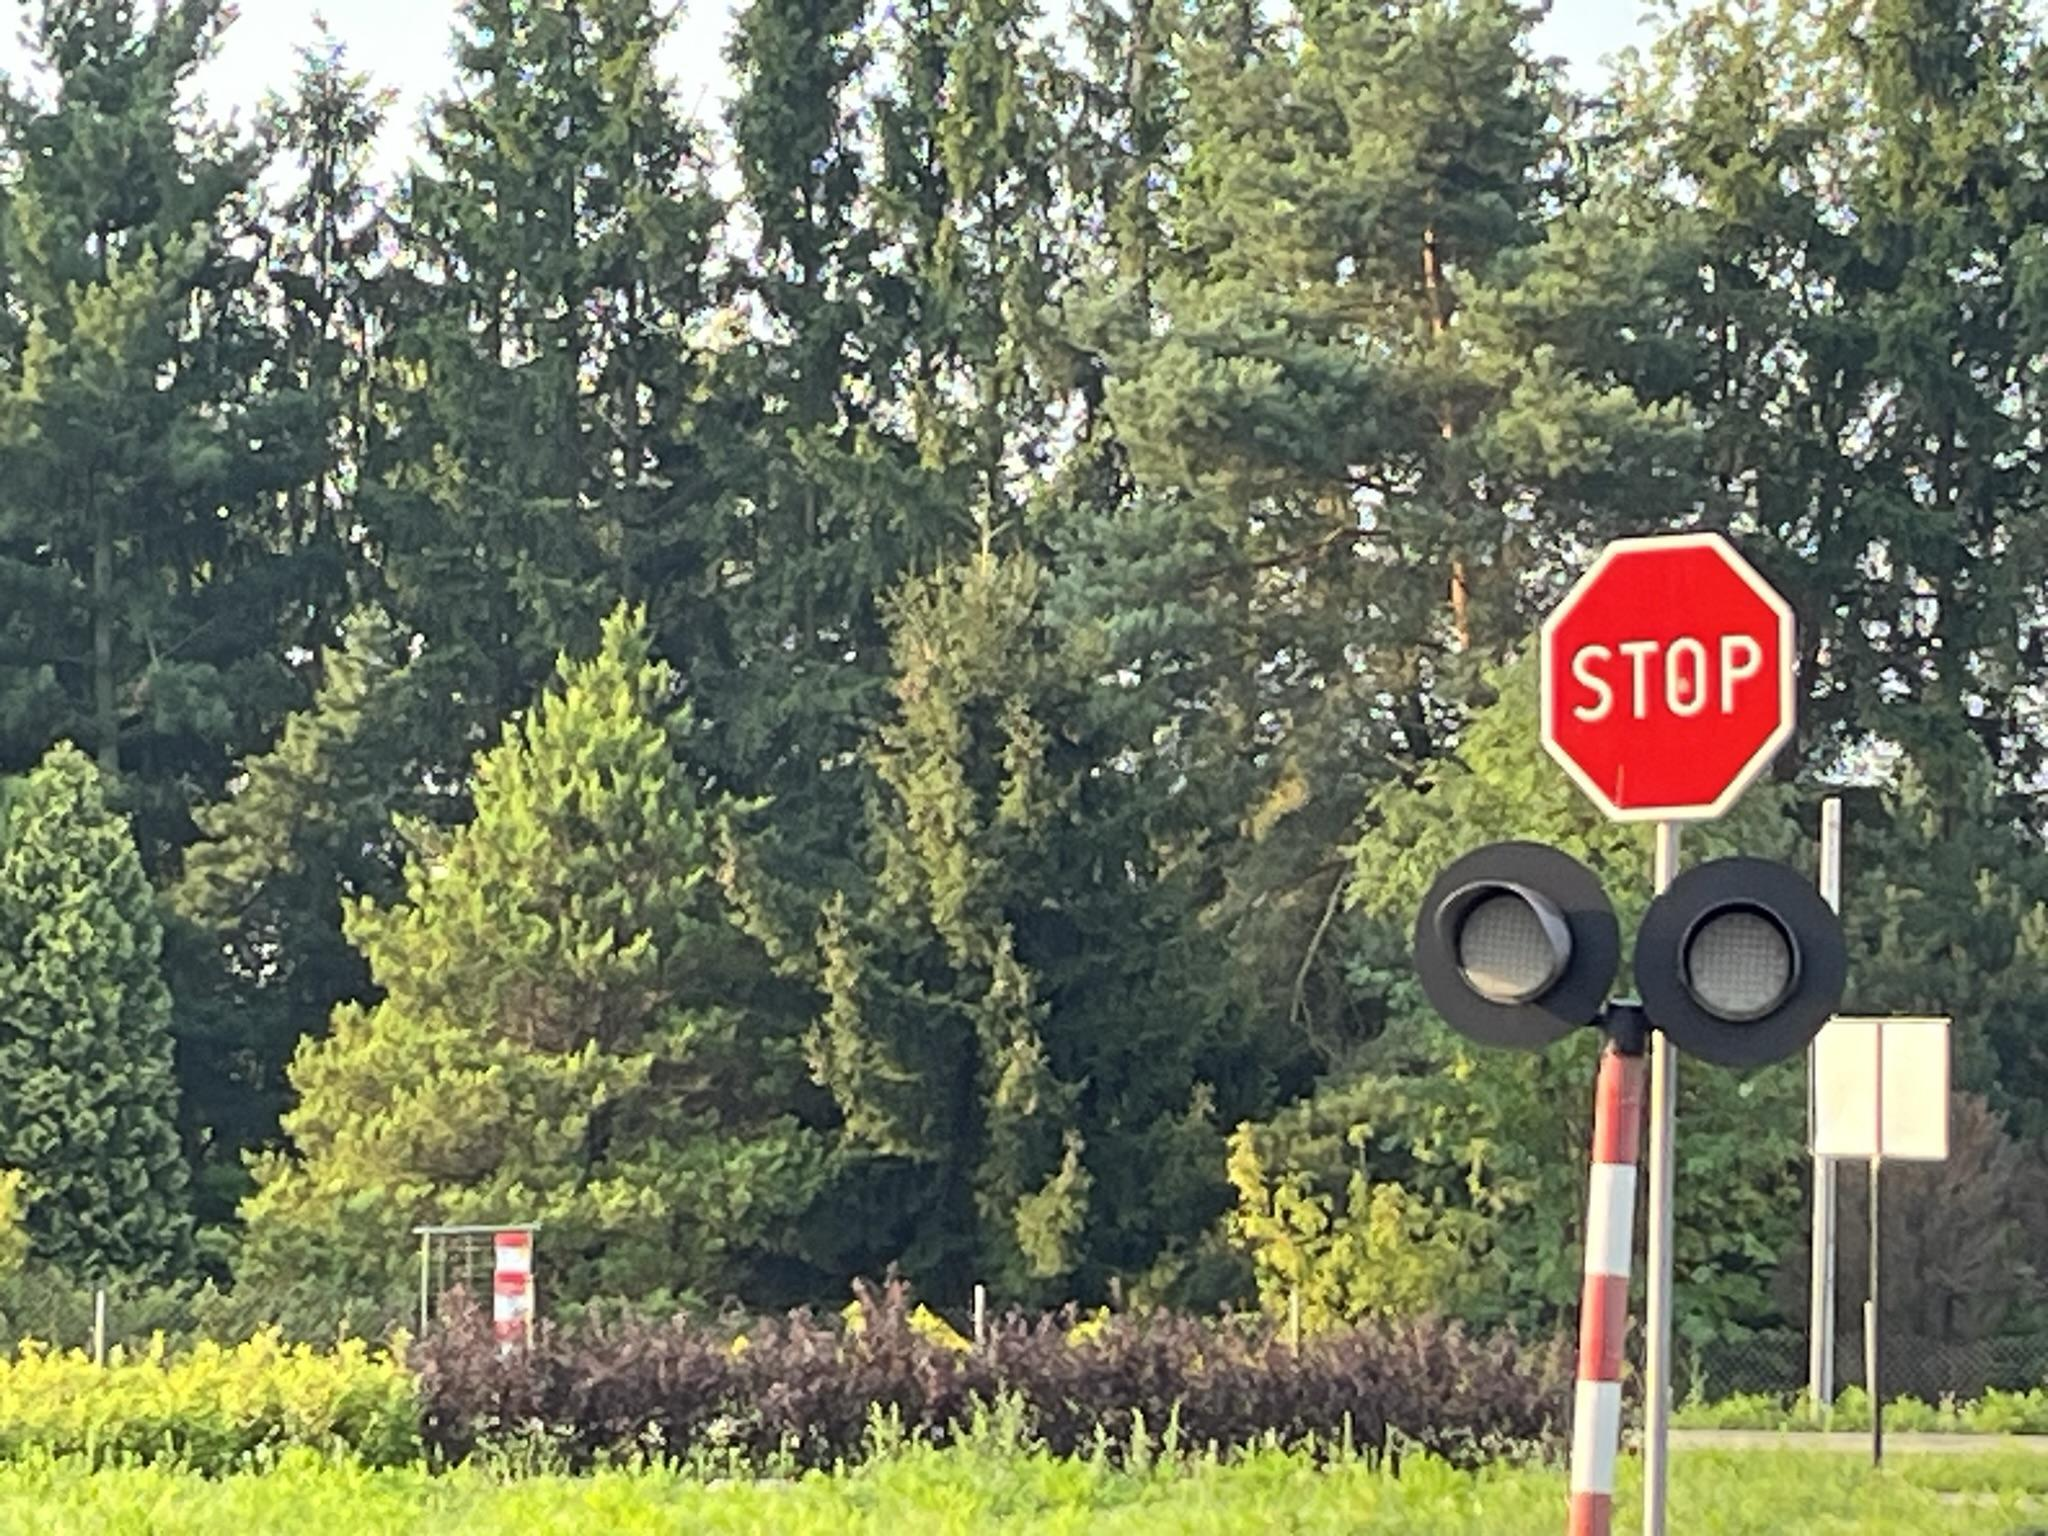prohibitory: (1540, 529, 1793, 820)
